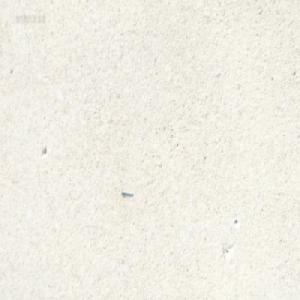Nail: (118, 187, 133, 196)
